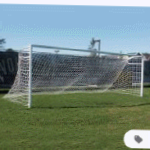goals: (3, 43, 147, 108)
